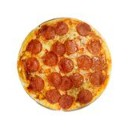pepperonipizza: (16, 16, 113, 112)
